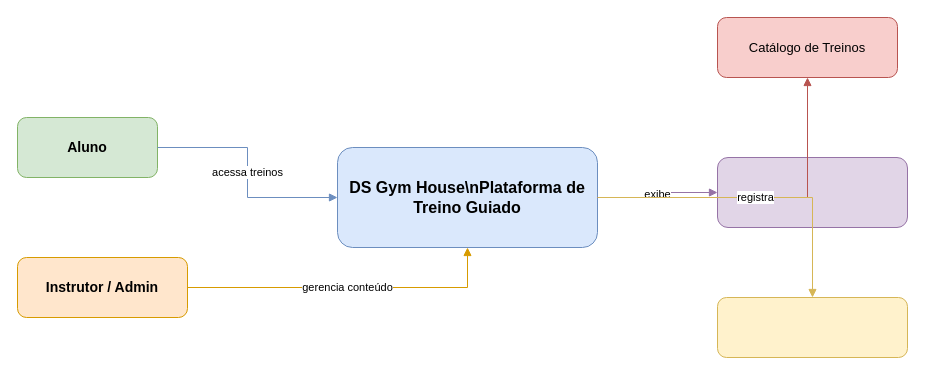
Some shapes in this 925 by 375 pixel diagram are drawn without their labels. The box of each missing label's shape, as (x1, y1, x2, y2) in pixels:
Conteúdos\nVídeo / YouTube / Texto: (716, 156, 908, 228)
Histórico e Progresso: (716, 296, 908, 358)
